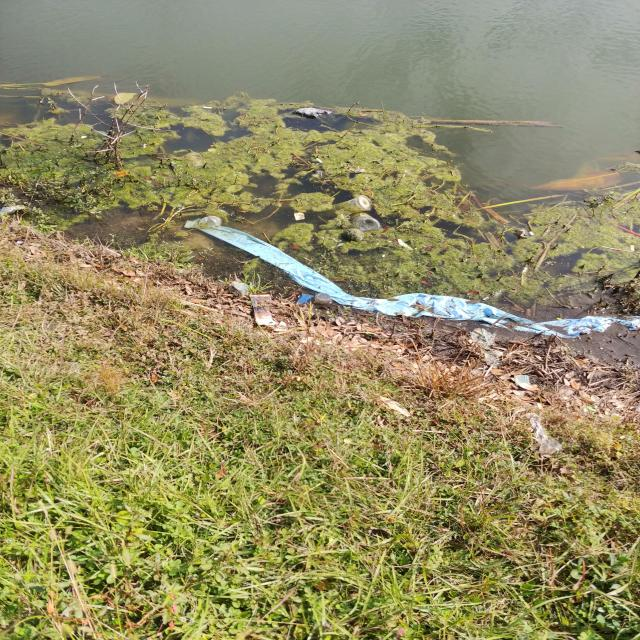litter: (178, 214, 639, 347)
